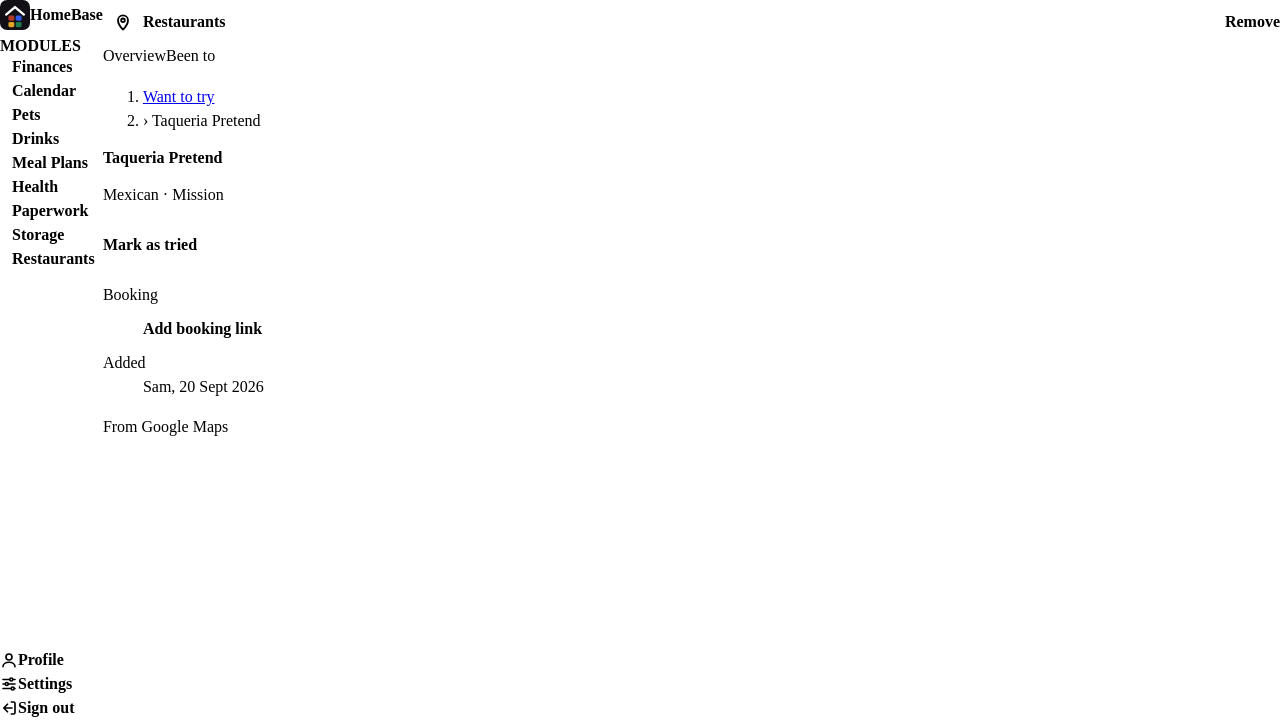
Scenario: book a table (REQ-132) › has no Book without a booking link, but offers to add one by pasting it
Click the button "Add booking link" at point(202, 329), box [143,307,262,351]
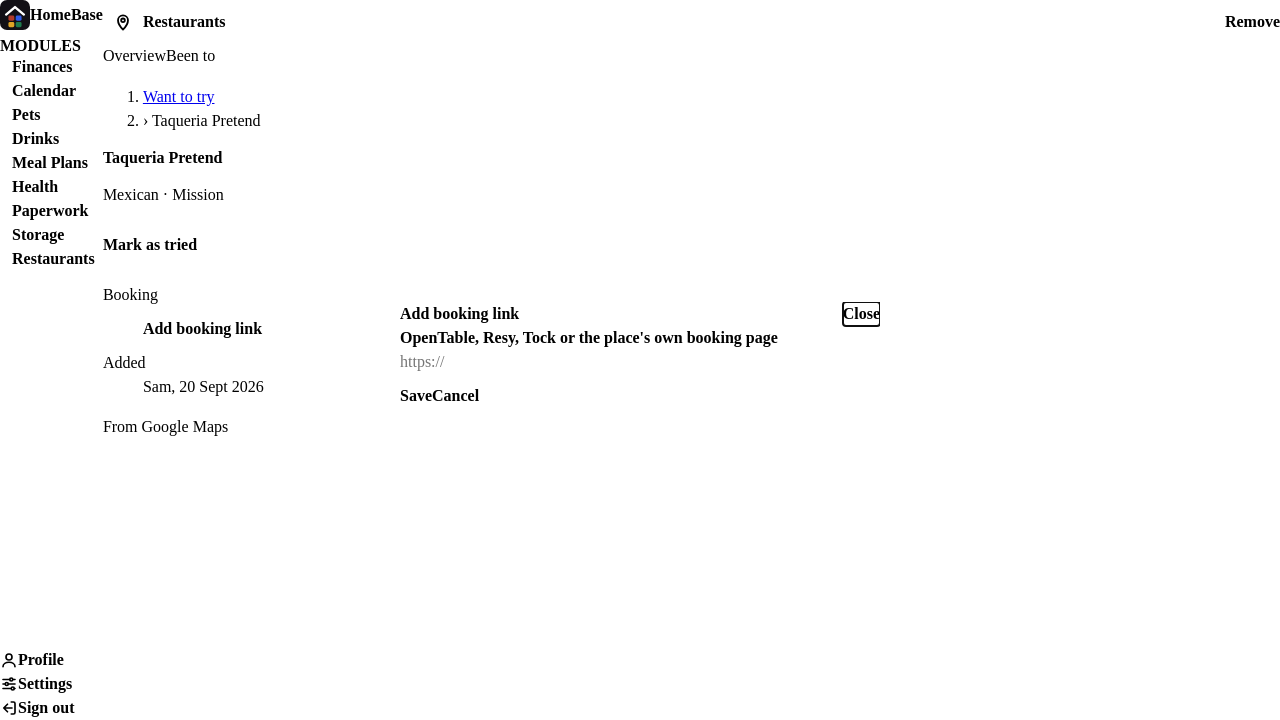
Expected: the field labelled "OpenTable, Resy, Tock or the place's own booking page" is empty, [400,350,880,374]
Expected: the button "Save" is shown, [400,374,432,418]
